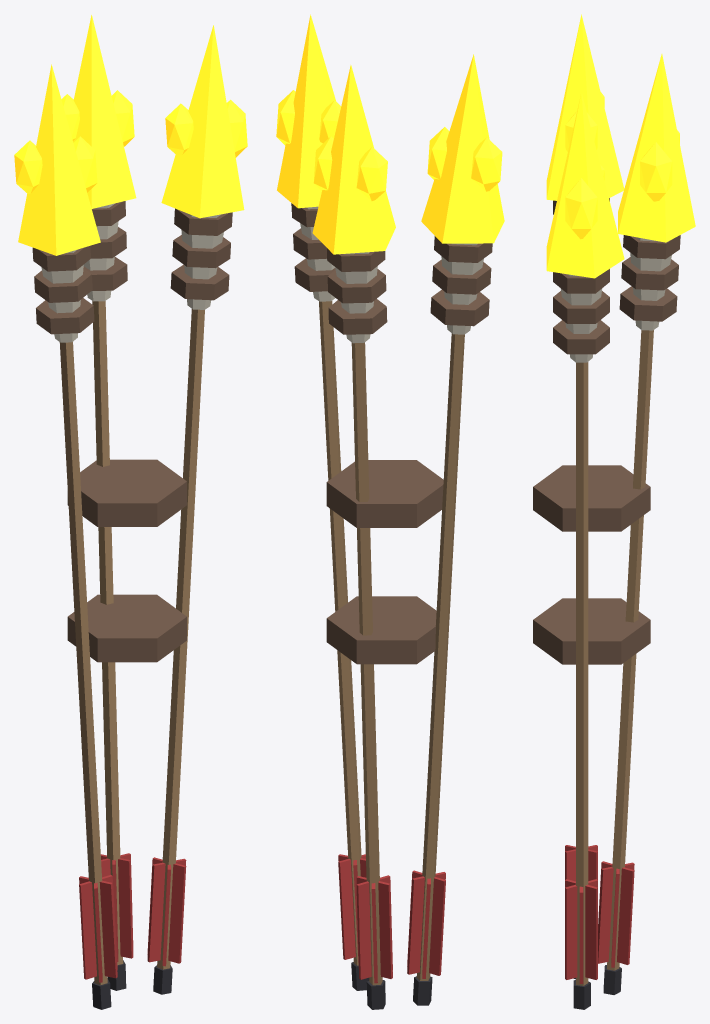
File: Weapon_FireArrows.glb
3 views of the same model, side by side, from view 1: azimuth 30°, elevation 25°; view 2: azimuth 150°, elevation 25°; view 3: azimuth 270°, elevation 25° (orthographic). The views are drawn at different scales.
Parts seen in each view (by area): view 1: FireArrows; view 2: FireArrows; view 3: FireArrows.
Part boxes in pixels (x1,y1,x2,y2): FireArrows: [14, 15, 247, 1009]; FireArrows: [276, 14, 504, 1009]; FireArrows: [533, 14, 695, 1009].
Bounding box in the file's own units: 0.2957 × 1.2 × 0.1885.
